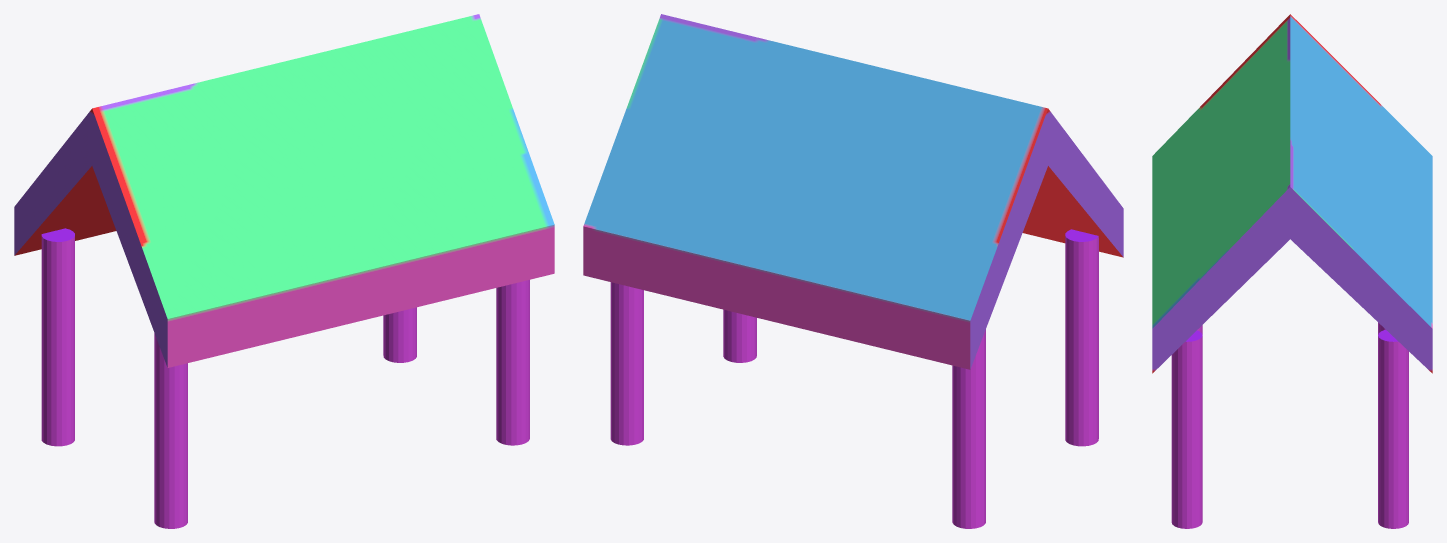
File: depot.fbx
3 renders of one model, left to right at view 1: azimuth 30°, elevation 25°; view 2: azimuth 150°, elevation 25°; view 3: azimuth 270°, elevation 25°, orthographic. The views are drawn at different scales.
Visible parts, largest first — view 1: Cylinder.002; view 2: Cylinder.002; view 3: Cylinder.002.
Part boxes in pixels (box(x1,y1,x2,y2)): Cylinder.002: box(14, 14, 554, 528); Cylinder.002: box(583, 14, 1123, 528); Cylinder.002: box(1152, 14, 1432, 528).
Size of the model in its own units: 396 by 369 by 272.
